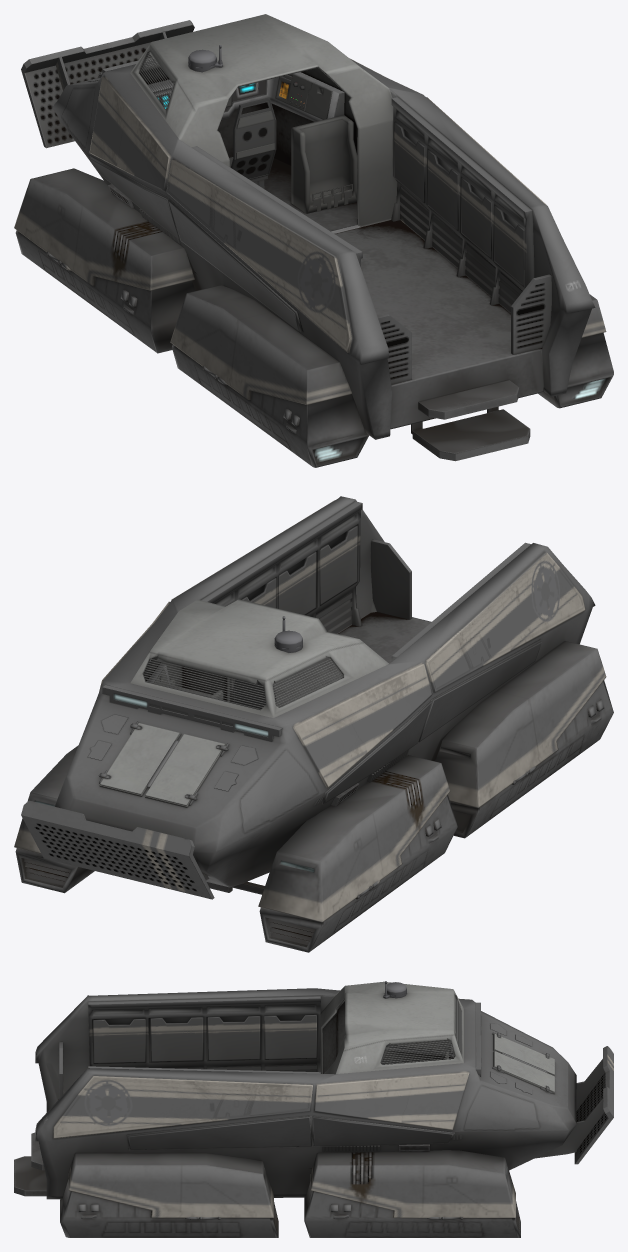
3 views of the same model, one above another, from view 1: azimuth 30°, elevation 25°; view 2: azimuth 150°, elevation 25°; view 3: azimuth 270°, elevation 25° (orthographic). The views are drawn at different scales.
Parts seen in each view (by area): view 1: StarWarsSdKfz; view 2: StarWarsSdKfz; view 3: StarWarsSdKfz.
Part boxes in pixels (x1,y1,x2,y2): StarWarsSdKfz: (14, 14, 613, 467); StarWarsSdKfz: (14, 496, 613, 952); StarWarsSdKfz: (14, 981, 613, 1237).
Size of the model in its own units: 3.78 by 2.83 by 8.11.
1 material, 1 textured.
